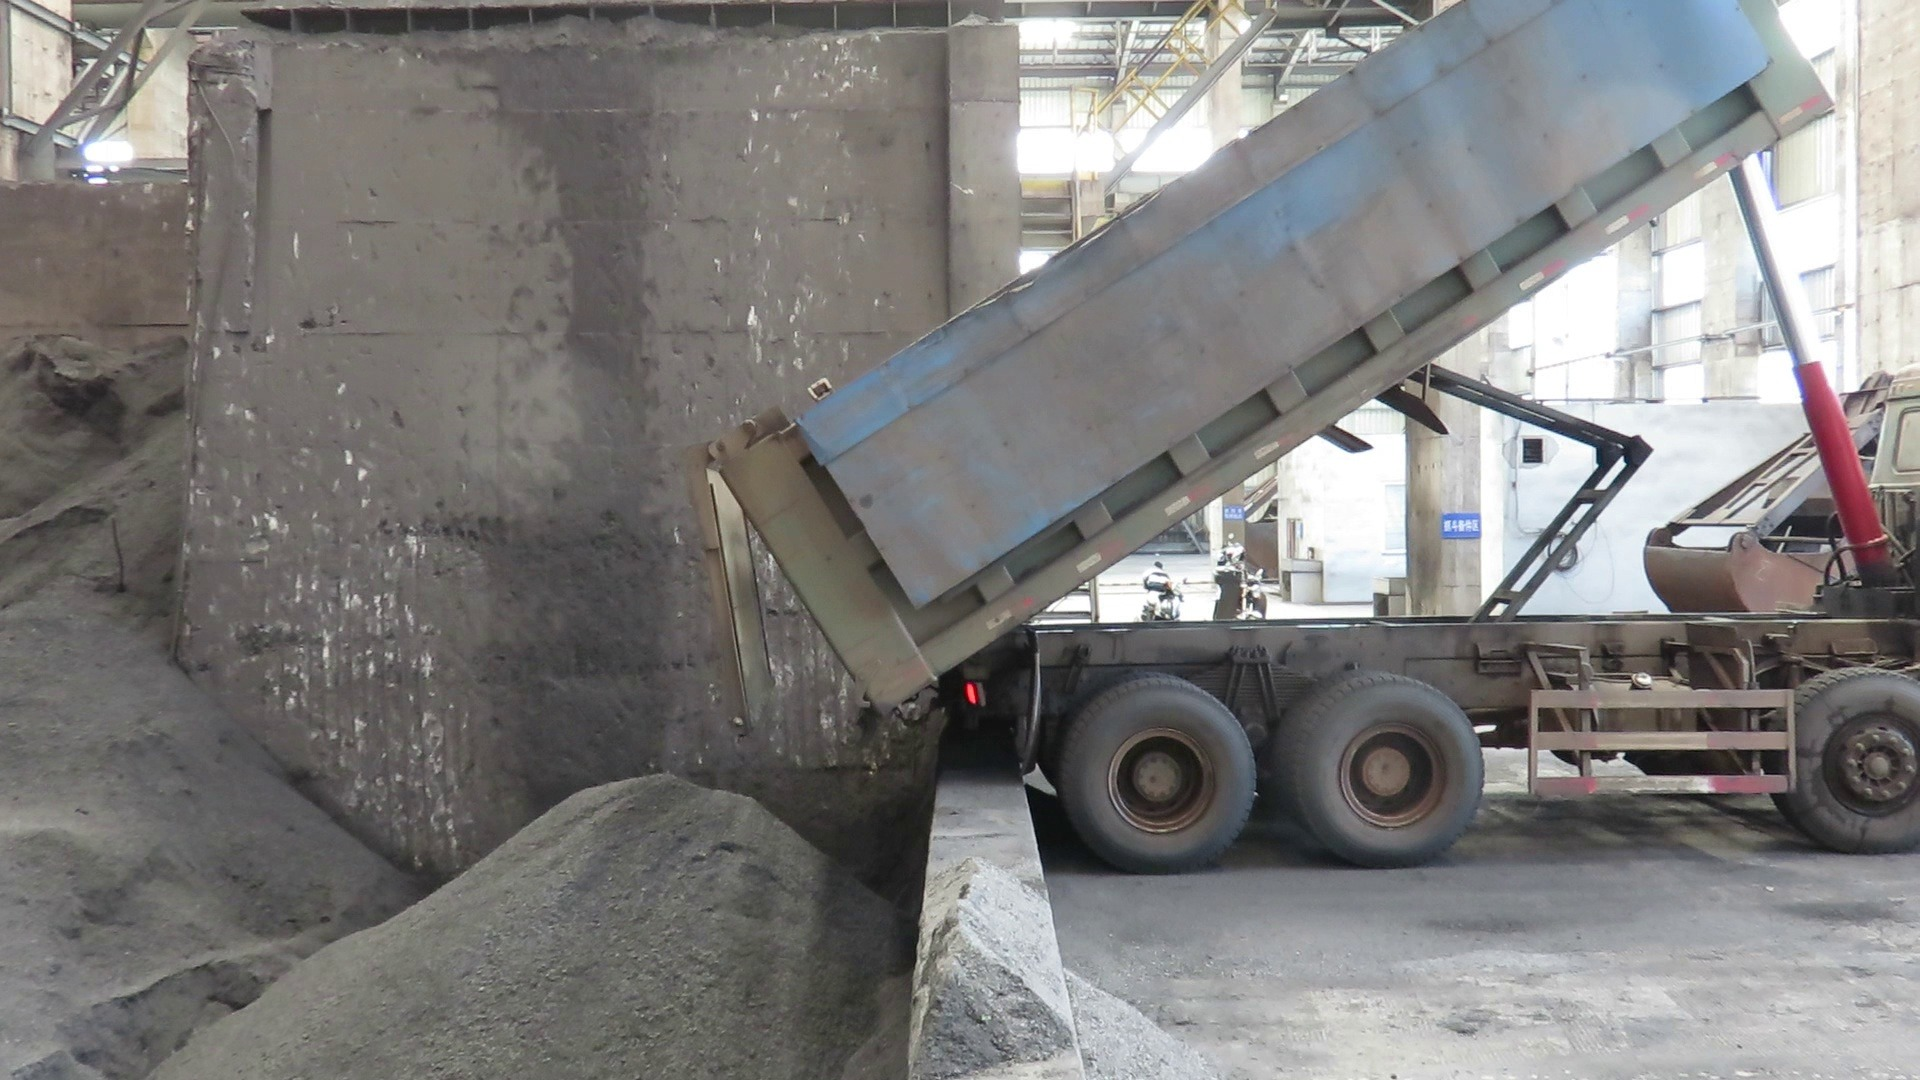truck: (702, 0, 1920, 877)
